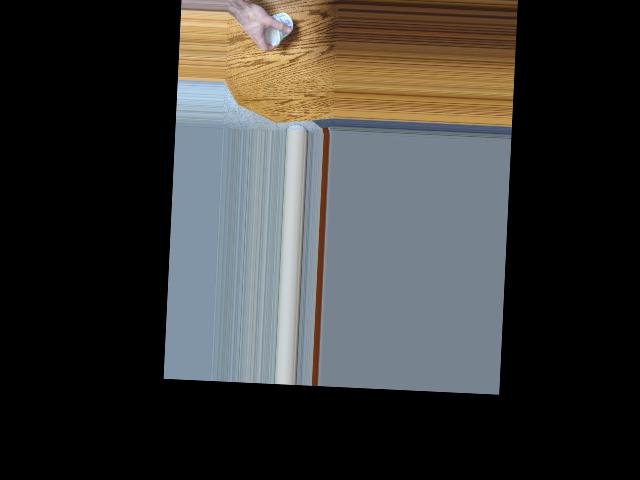cotage: (258, 8, 291, 47)
